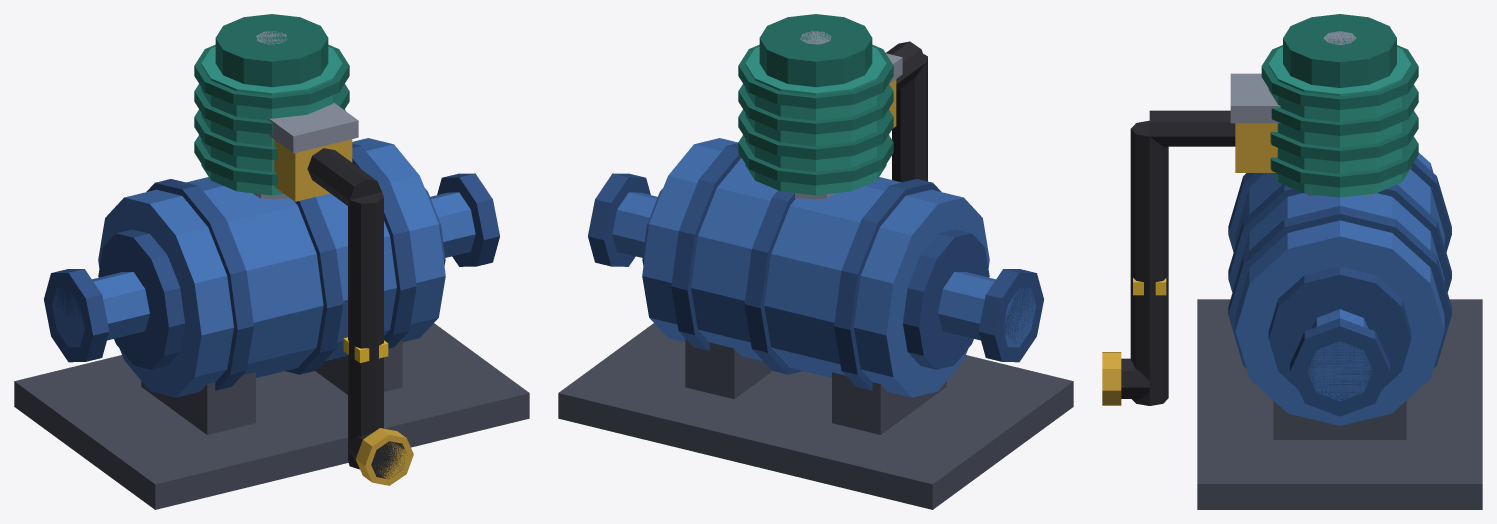
The model's file is water-turbine.glb.
The picture shows the model from 3 angles, left to right: view 1: azimuth 30°, elevation 25°; view 2: azimuth 150°, elevation 25°; view 3: azimuth 270°, elevation 25°; orthographic projection.
Visible parts, largest first — view 1: water-turbine; view 2: water-turbine; view 3: water-turbine.
Boxes of the visible parts, box(x1,y1,x2,y2) form: water-turbine: box(14, 14, 529, 509); water-turbine: box(558, 14, 1073, 509); water-turbine: box(1102, 14, 1482, 509).
Size of the model in its own units: 1 by 0.88 by 0.8.
2 materials, 2 textured.
